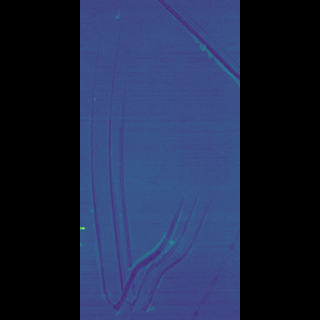Loch: (123, 10, 187, 313), (156, 1, 200, 94), (173, 225, 208, 318)
